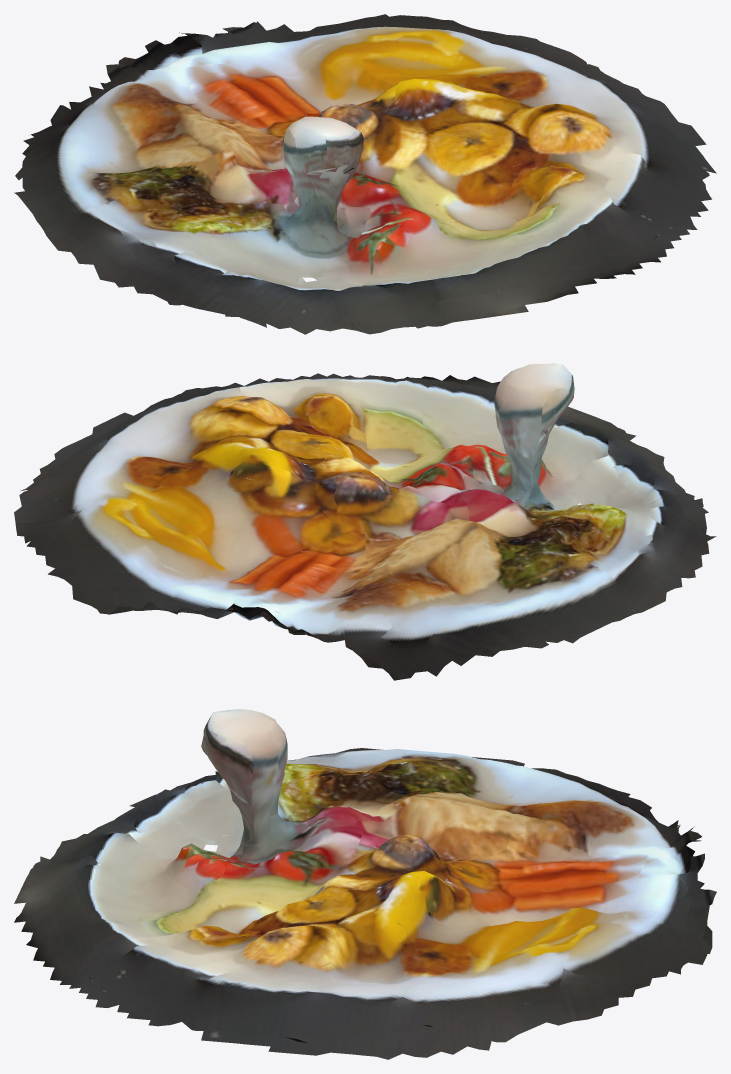
Rendered from day_47_-_1_scan_a_day_-_bananes_plantains.glb.
3 views of the same model, one above another, from view 1: azimuth 30°, elevation 25°; view 2: azimuth 150°, elevation 25°; view 3: azimuth 270°, elevation 25° (orthographic). The views are drawn at different scales.
Parts seen in each view (by area): view 1: Object_2; view 2: Object_2; view 3: Object_2.
Boxes of the visible parts, left/top/right/bottom form: Object_2: left=14, top=14, right=716, bottom=334; Object_2: left=14, top=363, right=716, bottom=680; Object_2: left=14, top=709, right=716, bottom=1059.
Size of the model in its own units: 0.302 by 0.069 by 0.293.
1 material, 1 textured.
